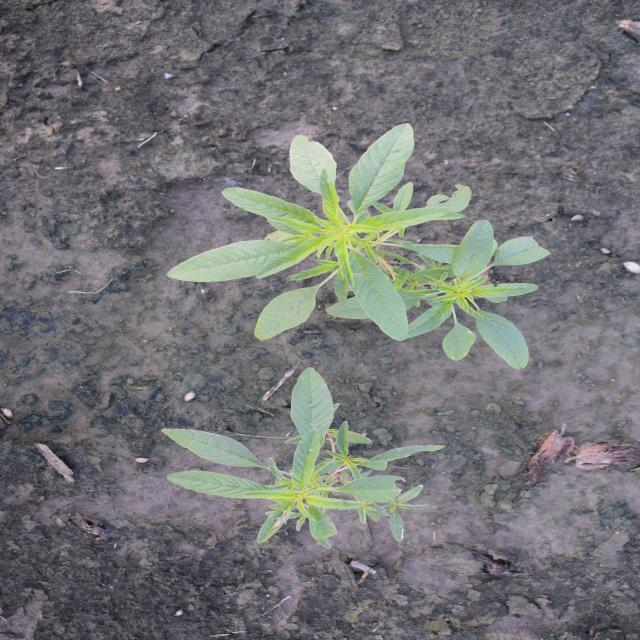Waterhemp: (163, 123, 554, 371), (155, 364, 450, 546)
